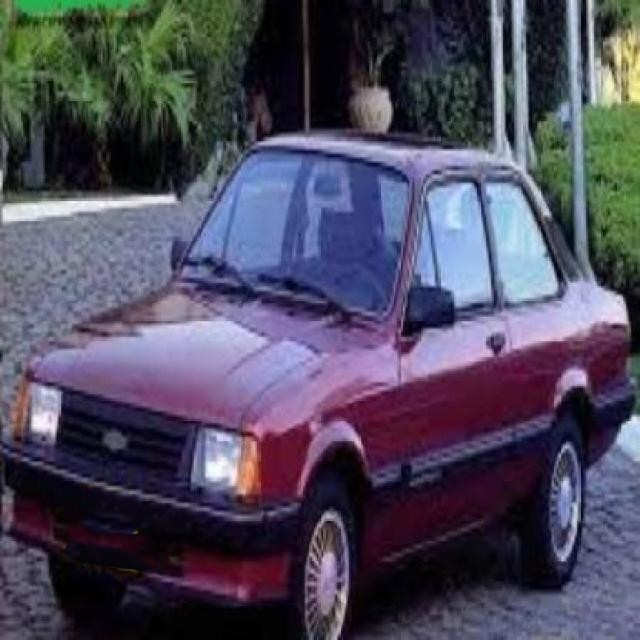car: (12, 134, 634, 639)
